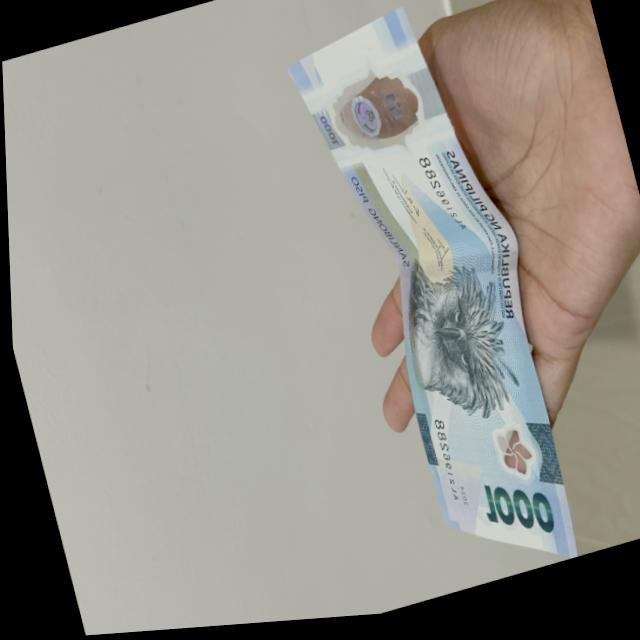clear_window: (311, 63, 440, 173)
eagle: (394, 242, 518, 434)
sampaguita: (483, 428, 533, 491)
